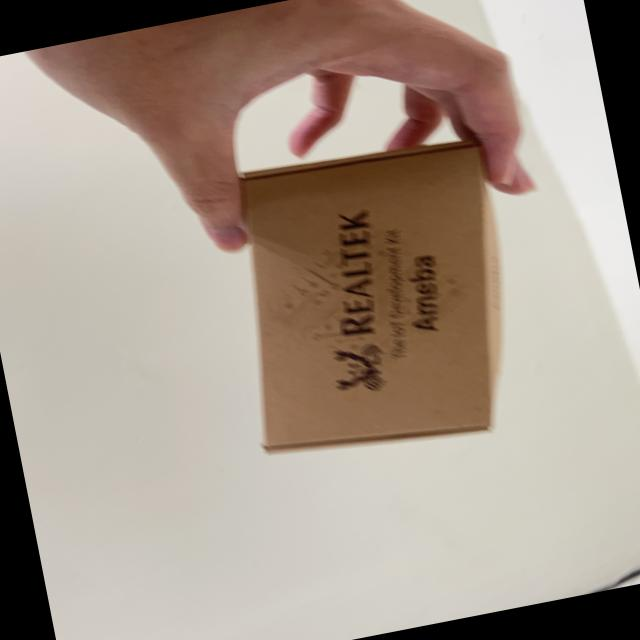box: (212, 104, 558, 481)
